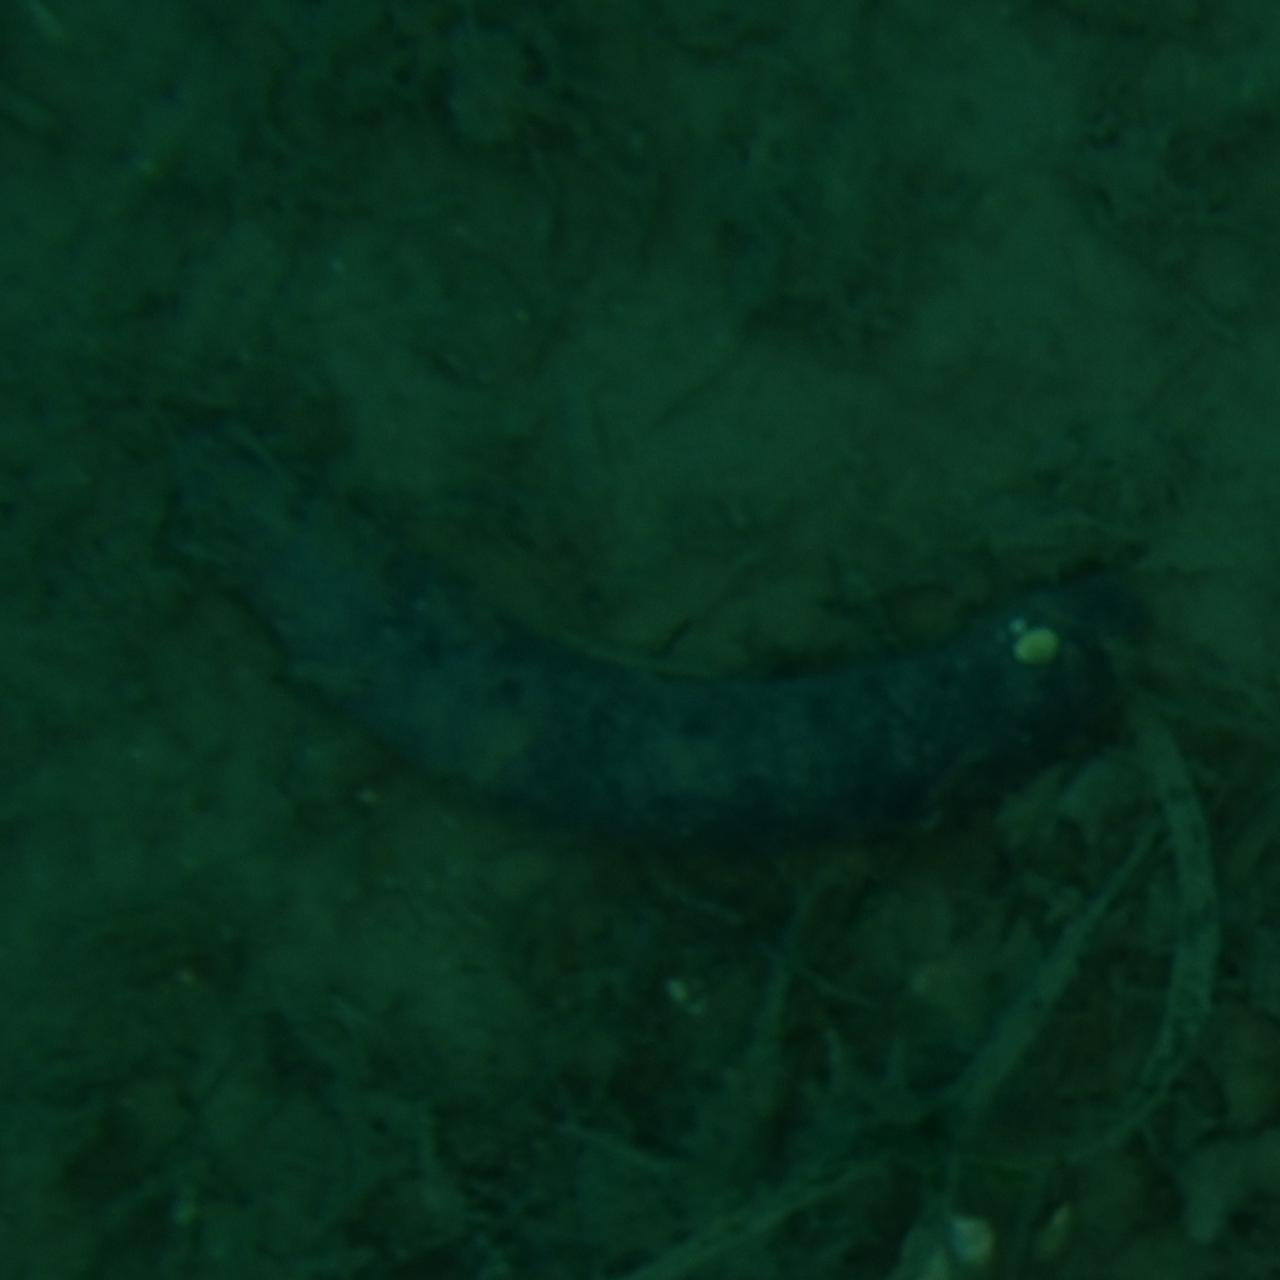Holothuria tubulosa: (142, 434, 1138, 846)
